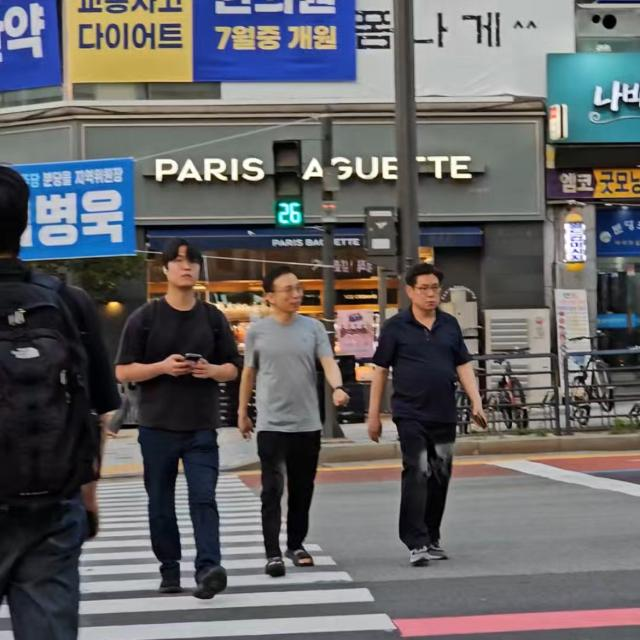green_light: (272, 141, 309, 238)
zebra: (0, 422, 421, 639)
